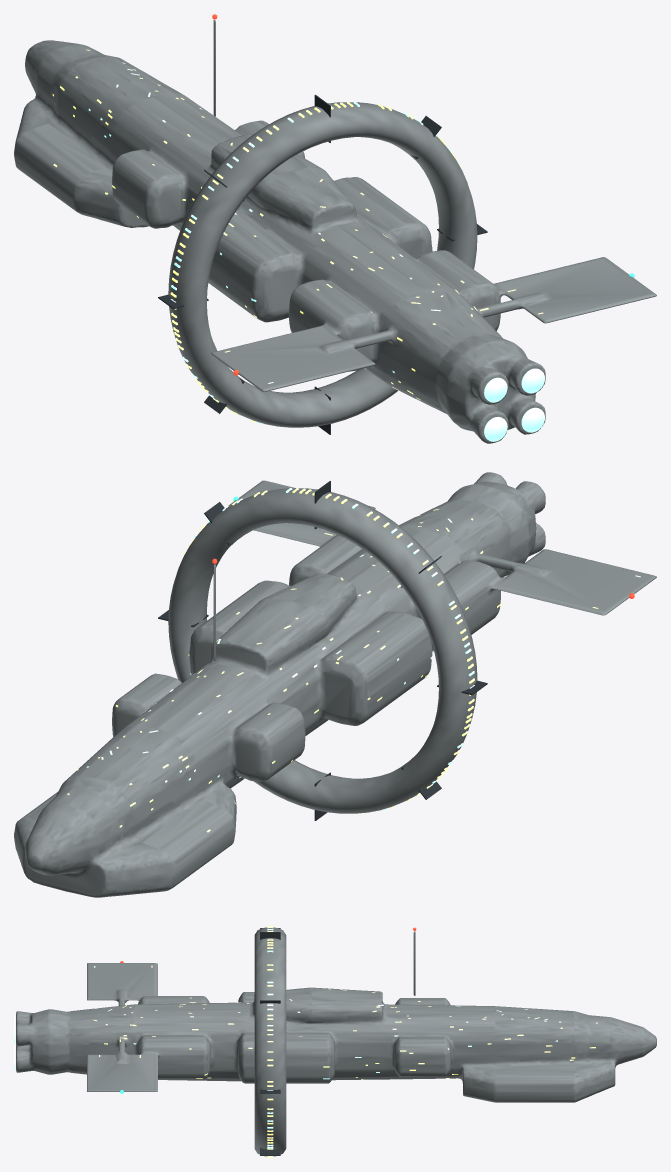
File: vessel.glb
The picture shows the model from 3 angles, top to bottom: view 1: azimuth 30°, elevation 25°; view 2: azimuth 150°, elevation 25°; view 3: azimuth 270°, elevation 25°; orthographic projection. The views are drawn at different scales.
Visible parts, largest first — view 1: Hull, Ring, RingWindowsAmber, WindowsAmber; view 2: Hull, Ring, RingWindowsAmber, WindowsAmber; view 3: Hull, Ring, WindowsAmber, RingWindowsAmber.
Part boxes in pixels (x1=…): Hull: x1=14, y1=20, x2=656, y2=443; Ring: x1=168, y1=102, x2=477, y2=427; RingWindowsAmber: x1=170, y1=102, x2=469, y2=427; WindowsAmber: x1=52, y1=49, x2=543, y2=400; Hull: x1=14, y1=472, x2=656, y2=897; Ring: x1=168, y1=488, x2=477, y2=813; RingWindowsAmber: x1=176, y1=488, x2=474, y2=813; WindowsAmber: x1=67, y1=509, x2=598, y2=832; Hull: x1=16, y1=931, x2=656, y2=1102; Ring: x1=254, y1=927, x2=286, y2=1156; WindowsAmber: x1=93, y1=965, x2=597, y2=1079; RingWindowsAmber: x1=267, y1=926, x2=273, y2=1157.
Size of the model in its own units: 385 by 308 by 802.
